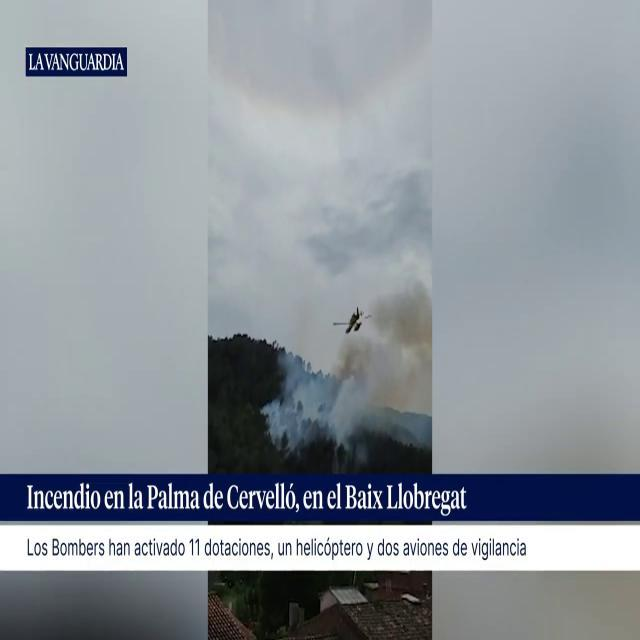Smoke: (266, 264, 432, 466)
